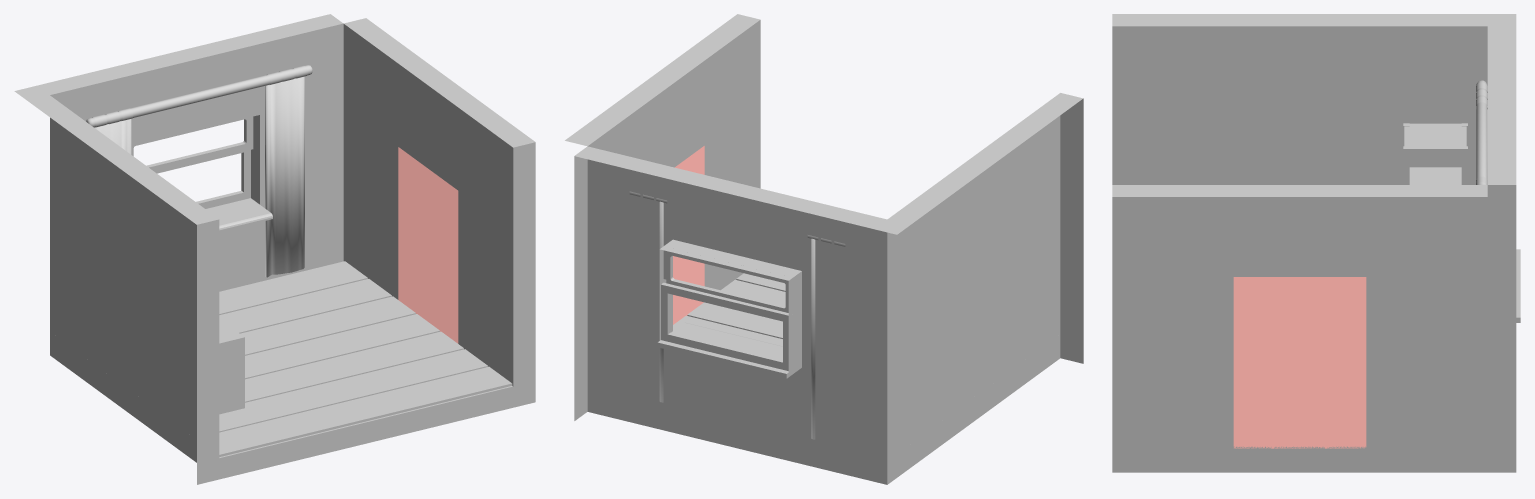
File: room.glb
3 views of the same model, side by side, from view 1: azimuth 30°, elevation 25°; view 2: azimuth 150°, elevation 25°; view 3: azimuth 270°, elevation 25° (orthographic). The views are drawn at different scales.
Visible parts, largest first — view 1: wall room, wall outside, floor, doorway, curtain_r, window frame, Cube table, curtain pole, curtain loops_r; view 2: wall room, wall outside, window frame, floor, doorway, curtain_r; view 3: wall outside, wall room, doorway, floor, Cube shelf planes, curtain pole, Cube shelf legs.
Boxes of the visible parts, bbox=[...] form: wall room: bbox=[14, 14, 343, 484]; wall outside: bbox=[343, 18, 535, 407]; floor: bbox=[51, 261, 513, 479]; doorway: bbox=[398, 147, 458, 343]; curtain_r: bbox=[95, 76, 304, 277]; window frame: bbox=[133, 116, 253, 208]; Cube table: bbox=[219, 319, 244, 414]; curtain pole: bbox=[86, 65, 312, 127]; curtain loops_r: bbox=[92, 65, 307, 127]; wall room: bbox=[574, 93, 1083, 484]; wall outside: bbox=[565, 14, 760, 290]; window frame: bbox=[661, 244, 795, 371]; floor: bbox=[673, 273, 1059, 461]; doorway: bbox=[673, 146, 704, 324]; curtain_r: bbox=[659, 201, 815, 439]; wall outside: bbox=[1112, 185, 1487, 472]; wall room: bbox=[1112, 14, 1520, 472]; doorway: bbox=[1233, 277, 1366, 448]; floor: bbox=[1112, 446, 1487, 472]; Cube shelf planes: bbox=[1404, 123, 1466, 184]; curtain pole: bbox=[1476, 80, 1487, 184]; Cube shelf legs: bbox=[1403, 123, 1467, 184].
Size of the model in its own units: 3 by 2.2 by 2.83.
